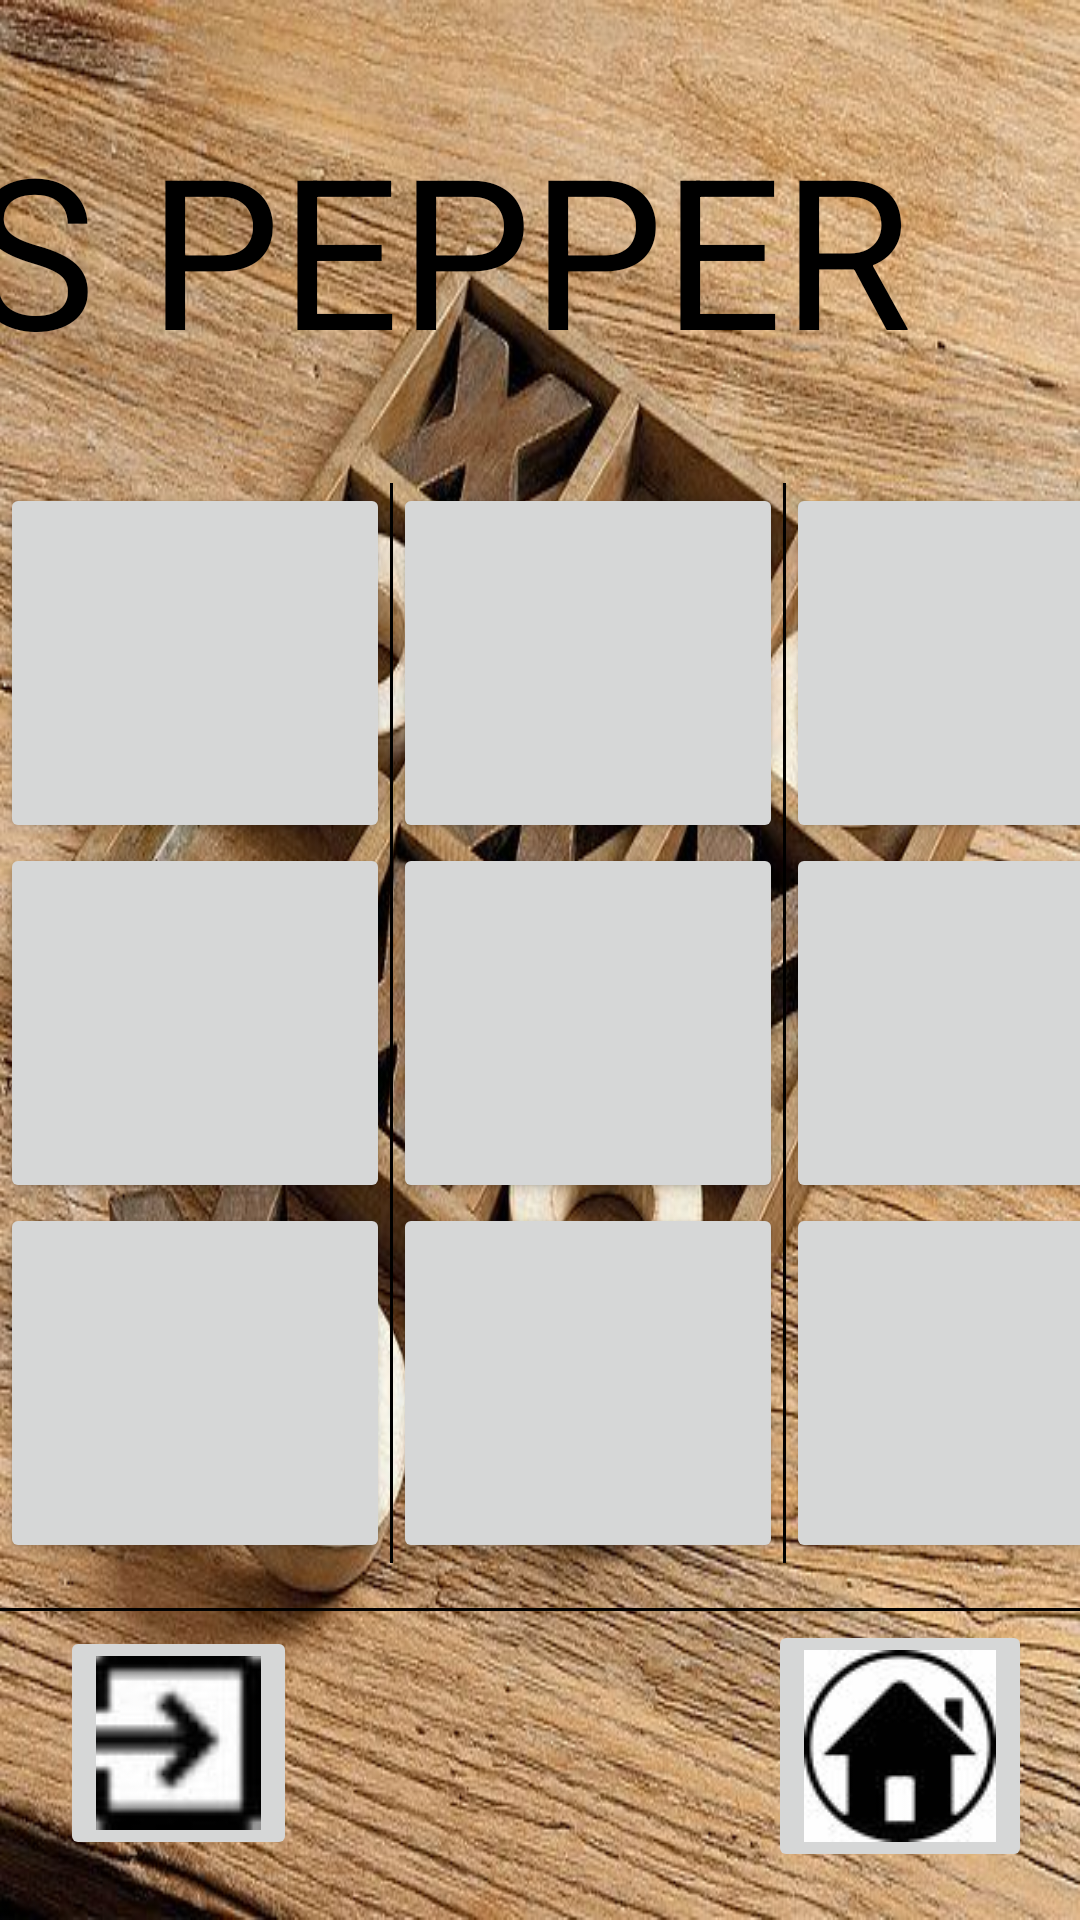

Screen size 1080px×1920px. Icon name, then its center in pixels as (x,y):
exit: (178,1743)
